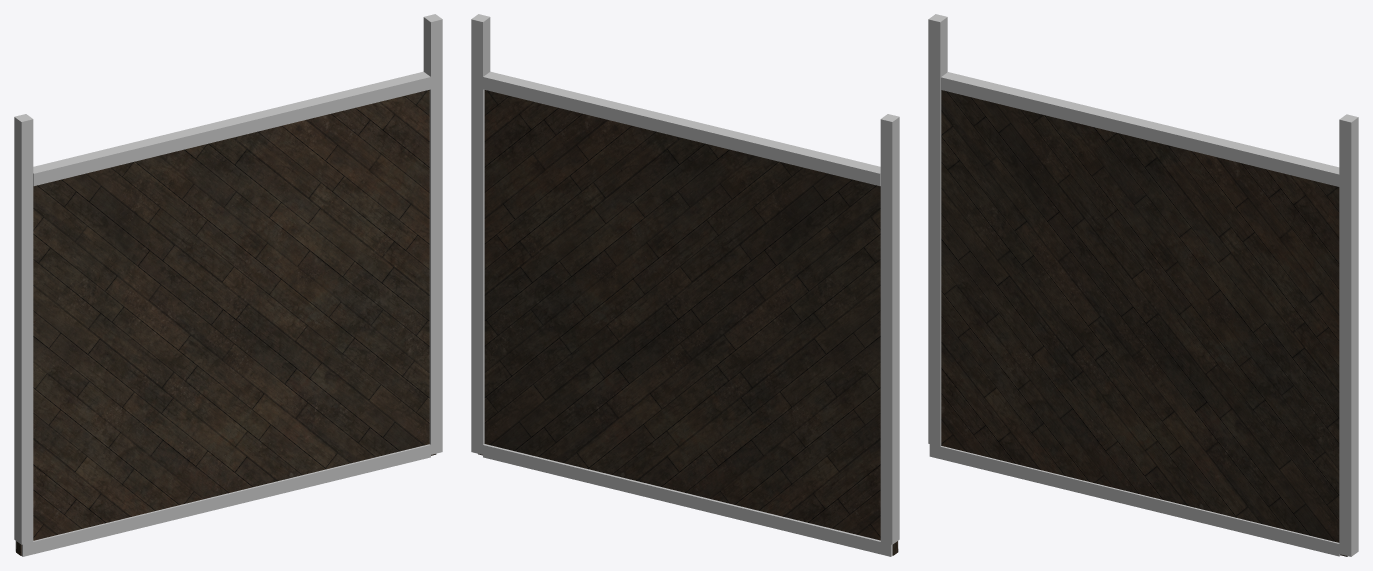
The model's file is balcony_divider.fbx.
3 renders of one model, left to right at view 1: azimuth 30°, elevation 25°; view 2: azimuth 150°, elevation 25°; view 3: azimuth 330°, elevation 25°, orthographic.
Visible parts, largest first — view 1: balcony_divider; view 2: balcony_divider; view 3: balcony_divider.
Part boxes in pixels (x1,y1,x2,y2): balcony_divider: (14, 14, 442, 556); balcony_divider: (471, 14, 899, 556); balcony_divider: (928, 14, 1358, 556).
Size of the model in its own units: 405 by 400 by 12.15.
